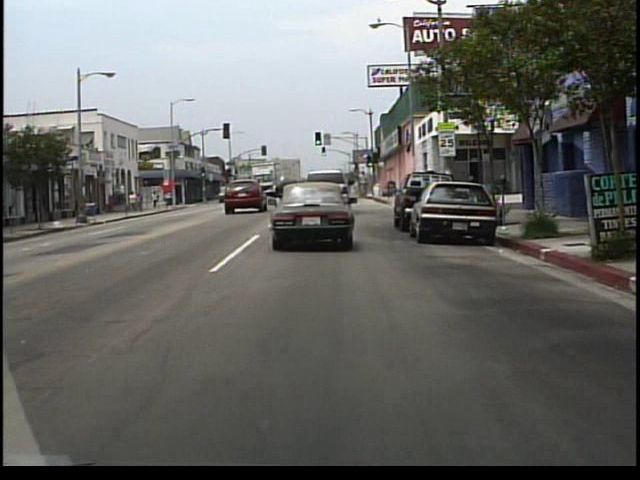person: (129, 191, 138, 214), (152, 189, 161, 209), (139, 192, 145, 212)
